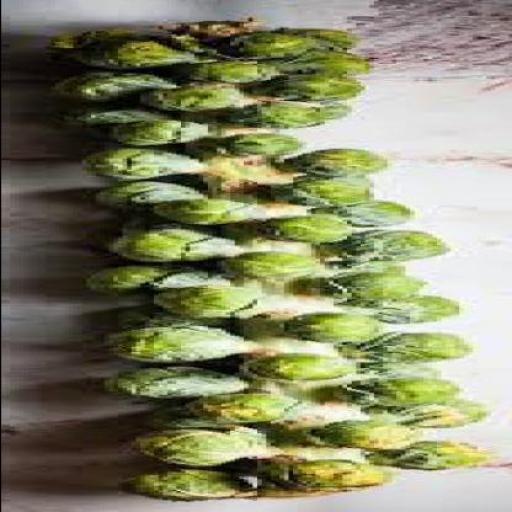biodegradable: (50, 22, 498, 502), (54, 33, 211, 72), (108, 327, 274, 363), (135, 431, 279, 471), (112, 368, 252, 402), (85, 150, 220, 184), (333, 232, 453, 270), (157, 287, 287, 322), (125, 470, 261, 502), (94, 267, 225, 299), (184, 392, 314, 424), (337, 376, 463, 409), (63, 103, 202, 132), (117, 231, 242, 263), (314, 418, 426, 453), (98, 181, 216, 213), (63, 73, 188, 103), (229, 102, 354, 132), (283, 462, 395, 494), (148, 199, 279, 226), (314, 275, 445, 302), (360, 336, 476, 366), (229, 252, 337, 284), (265, 75, 377, 105), (260, 353, 364, 385), (297, 312, 400, 344), (377, 402, 494, 430), (144, 86, 260, 113), (274, 52, 382, 80), (108, 120, 220, 147), (354, 297, 458, 326), (225, 254, 328, 283), (180, 60, 288, 86), (391, 443, 494, 470), (292, 178, 386, 207), (130, 409, 238, 433), (225, 36, 323, 62), (121, 312, 233, 334), (301, 152, 391, 179), (261, 217, 354, 243), (215, 137, 319, 160), (324, 205, 422, 229), (134, 221, 224, 236), (373, 367, 449, 381), (310, 33, 368, 51), (364, 266, 418, 282)
